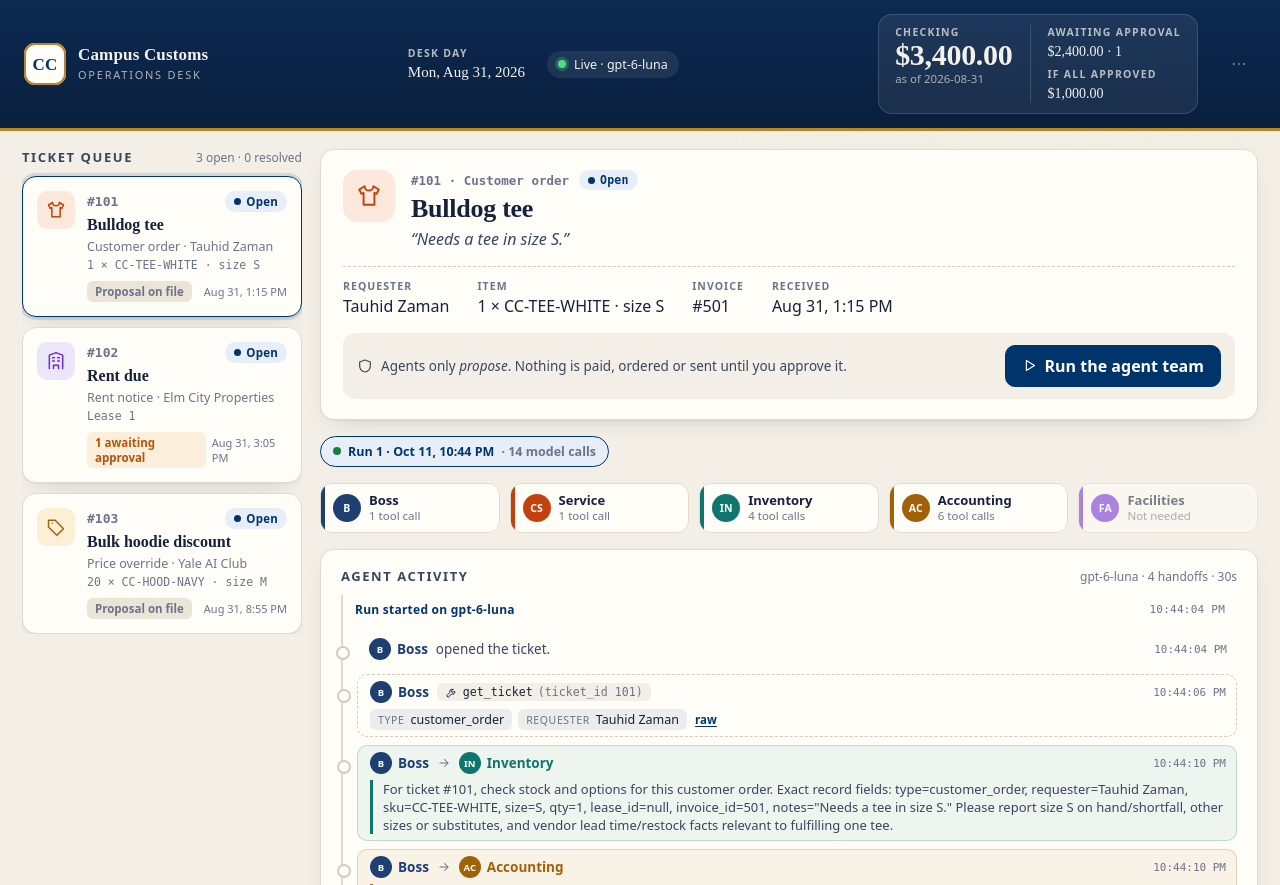
Test: dashboard › makes the human explicitly leave pending payments unpaid before resolving
Click the button "Rent due" at (162, 405), box [22, 327, 302, 483]
(page scrolled)
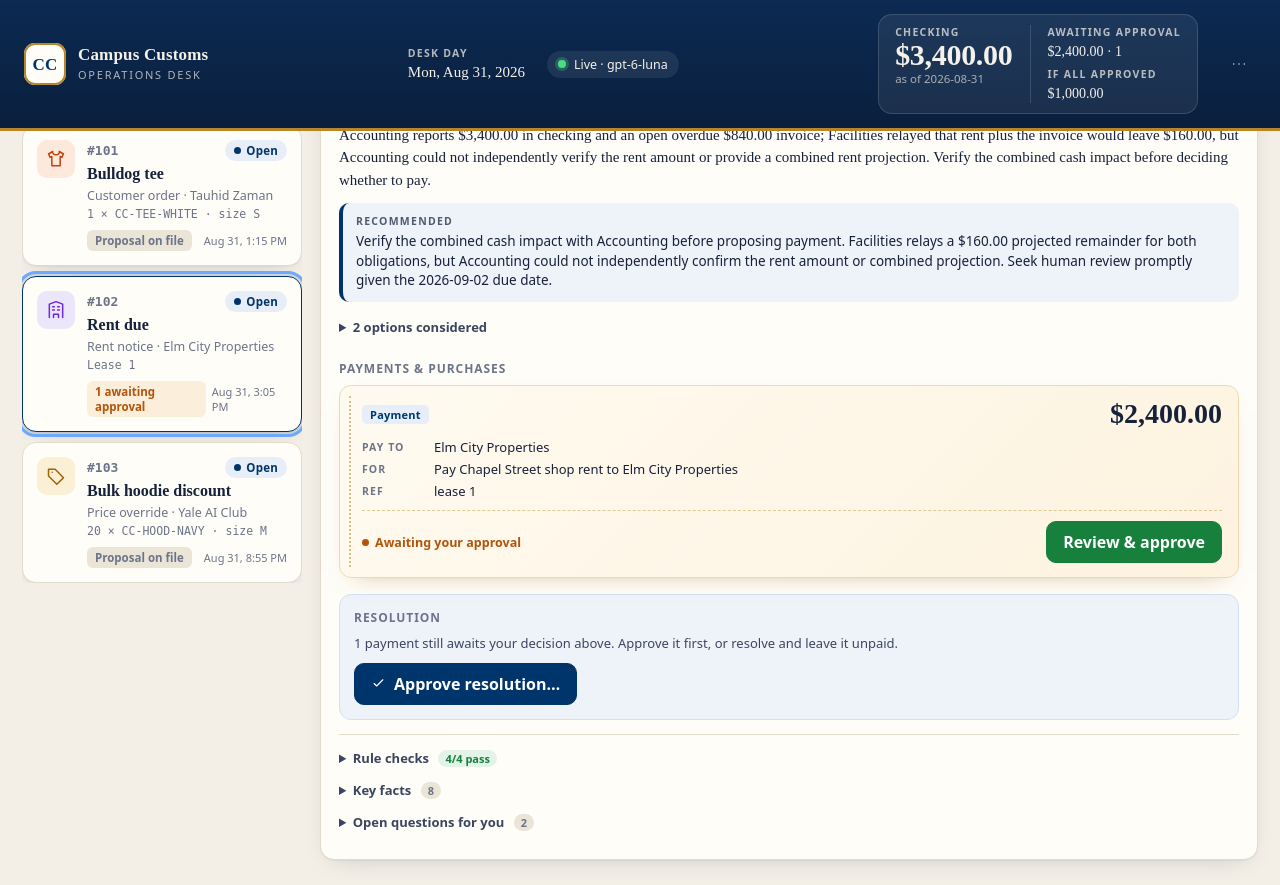
Check: the text "still awaits your decision" is shown, box [354, 634, 898, 652]
Click the button "Approve resolution…" at (466, 684), box [354, 663, 577, 705]
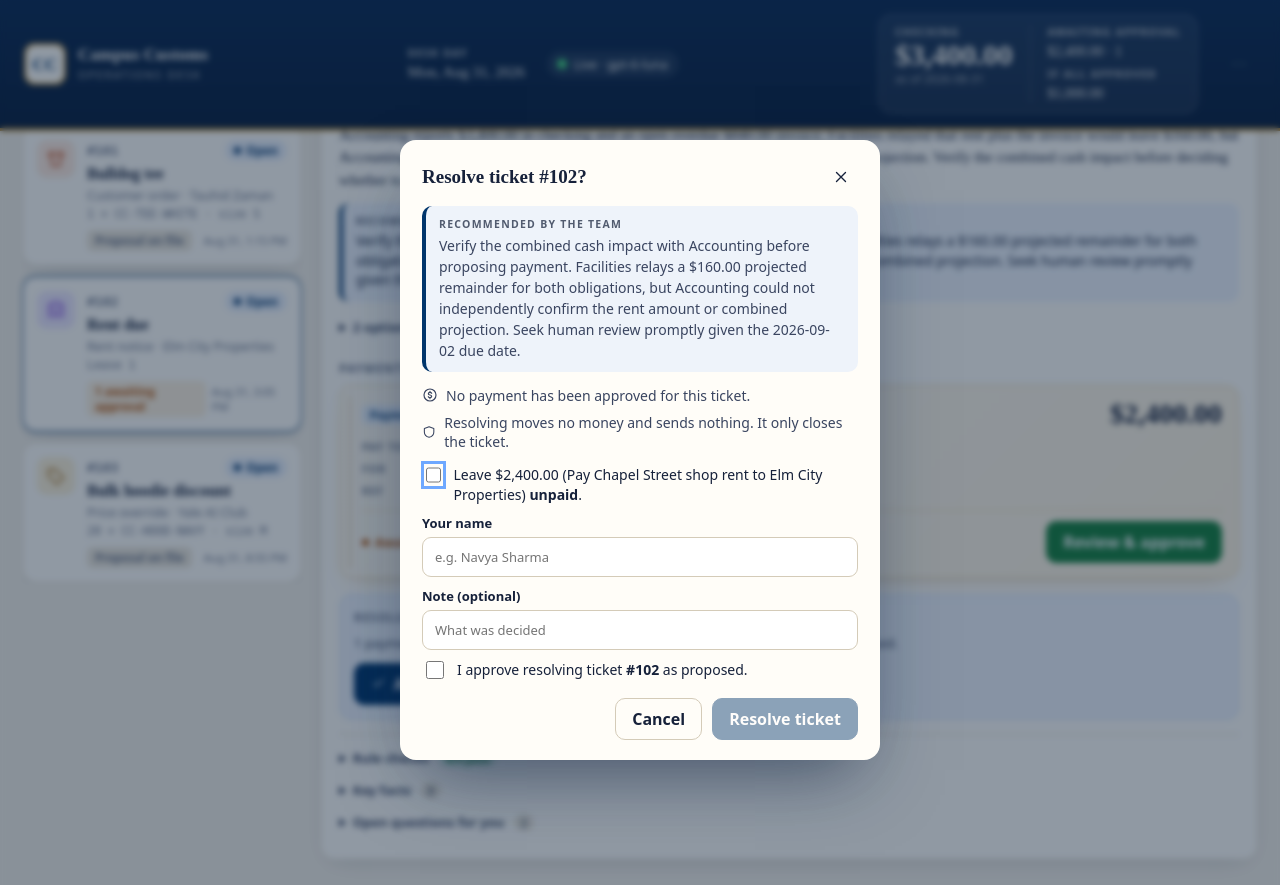
Type "Navya Sharma" into the field labelled "Your name" at (640, 557), box [422, 537, 858, 577]
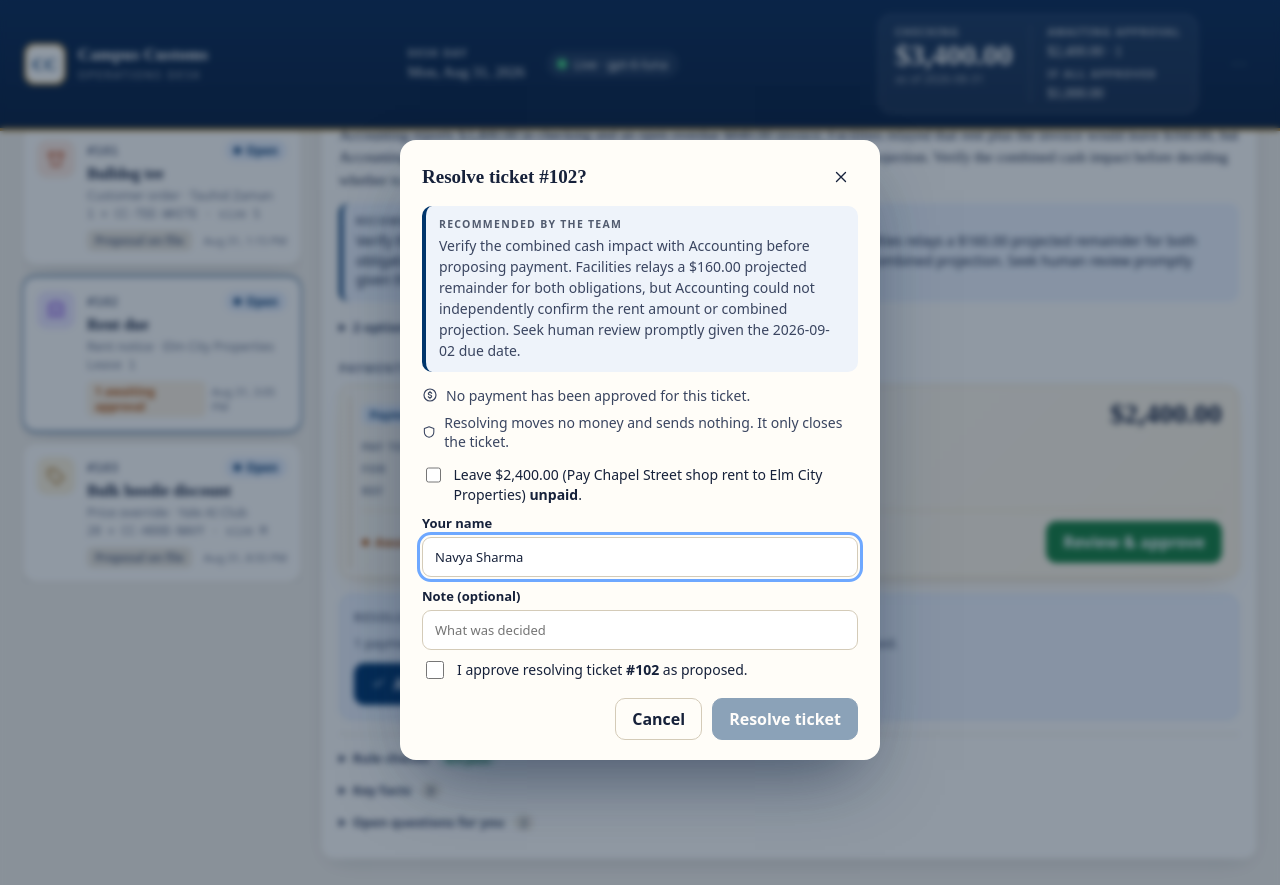
Click the checkbox labelled "I approve resolving ticket #102 as proposed." at (435, 670), box [426, 661, 444, 679]
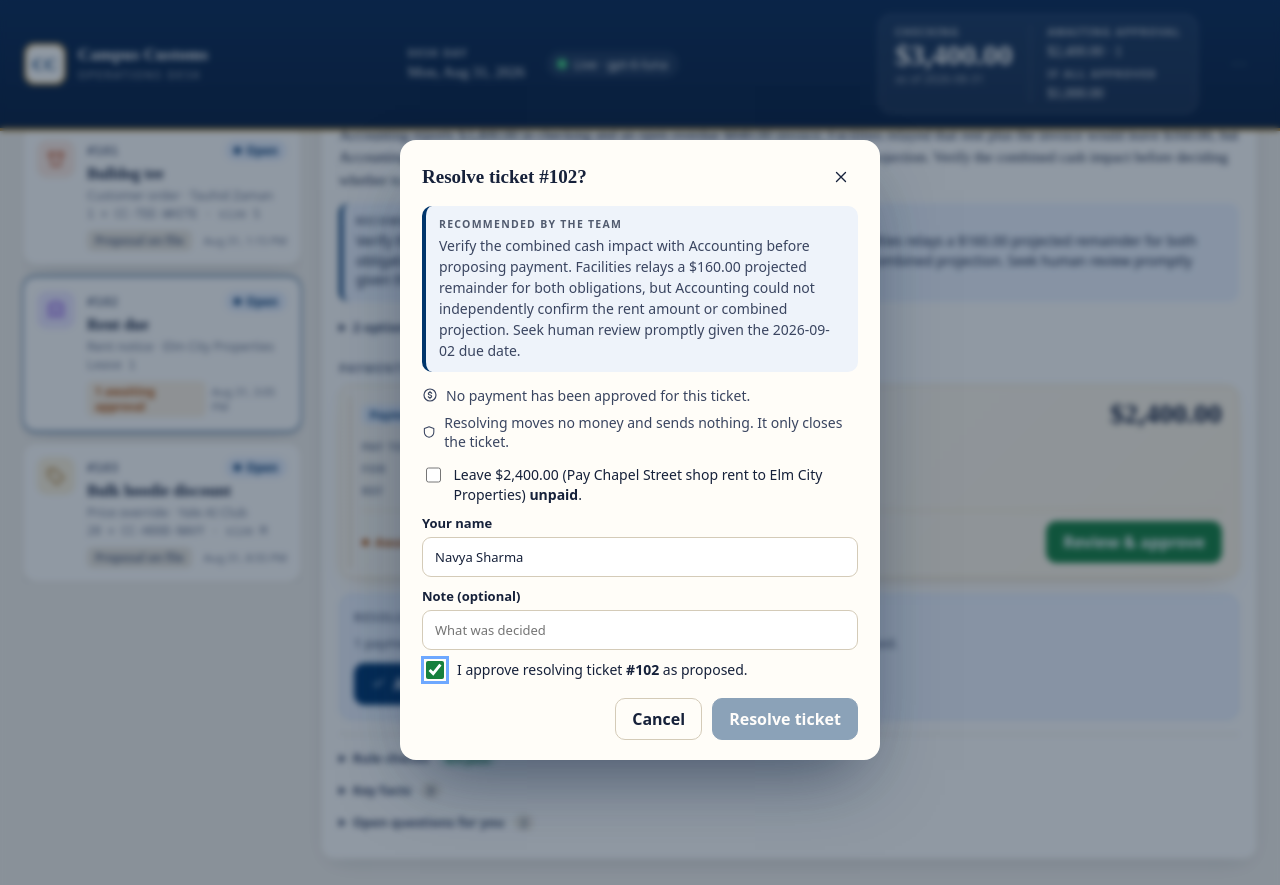
Check: the button "Resolve ticket" is disabled, box [712, 698, 858, 740]
Click the checkbox labelled "unpaid" at (433, 475), box [426, 466, 440, 484]
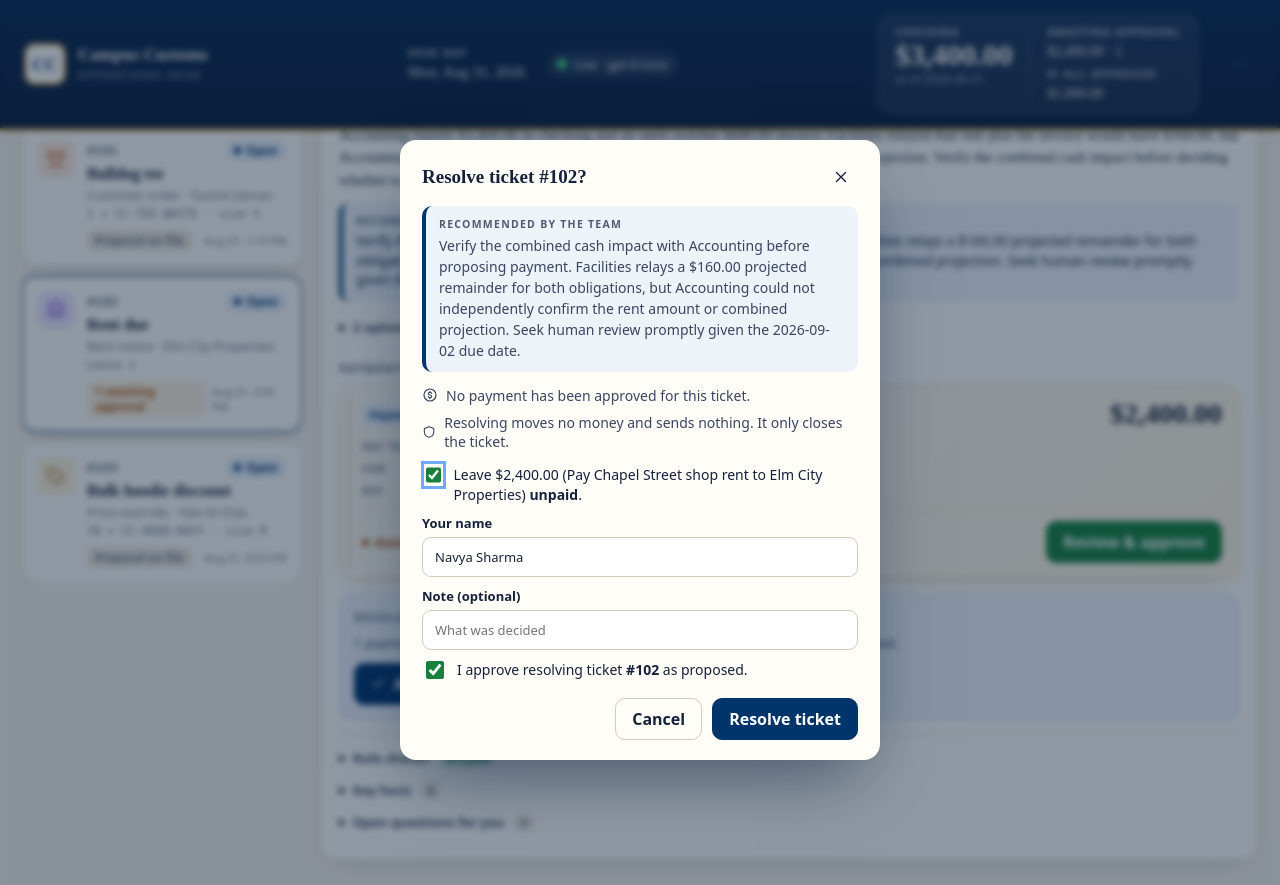
Check: the button "Resolve ticket" is enabled, box [712, 698, 858, 740]
